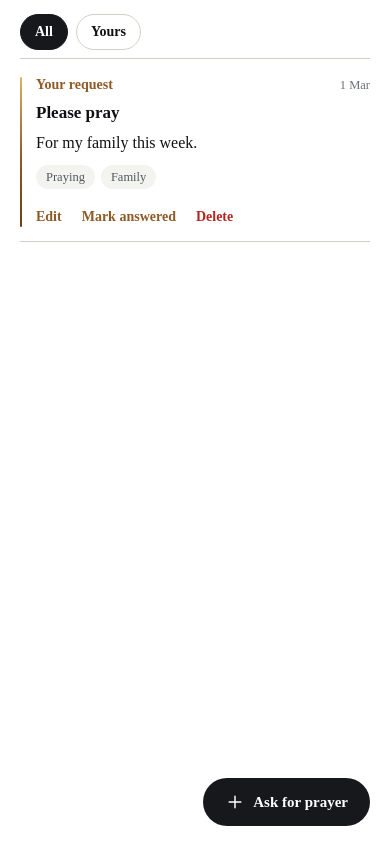
Test case: notices › says something did not work when a status change fails, and keeps the list
The width and height of the screenshot is (390, 844).
Click the button with test id "prayer-request-answered-p1": (129,217) 82,195 -> 176,239
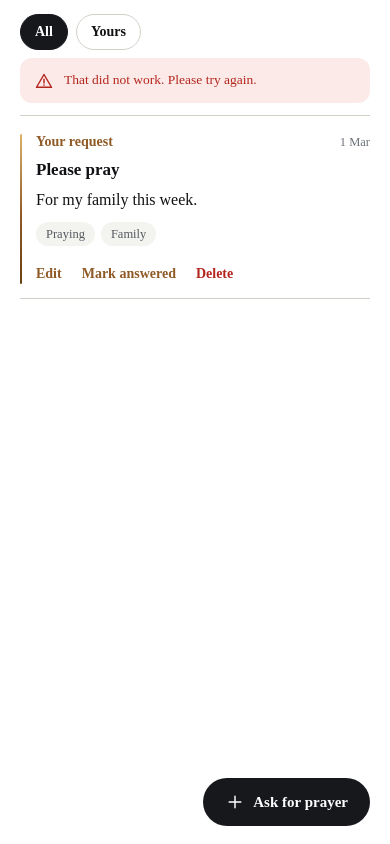
Expected: the text "Please pray" is shown, 36,160 -> 120,179
Now the element with test id "prayer-wall-action-failed" is shown, box 20,58 -> 370,103
Now the text "That did not work. Please try again." is shown, box 64,72 -> 257,87
